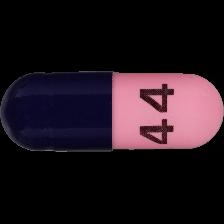16714-298: (0, 0, 224, 224)
